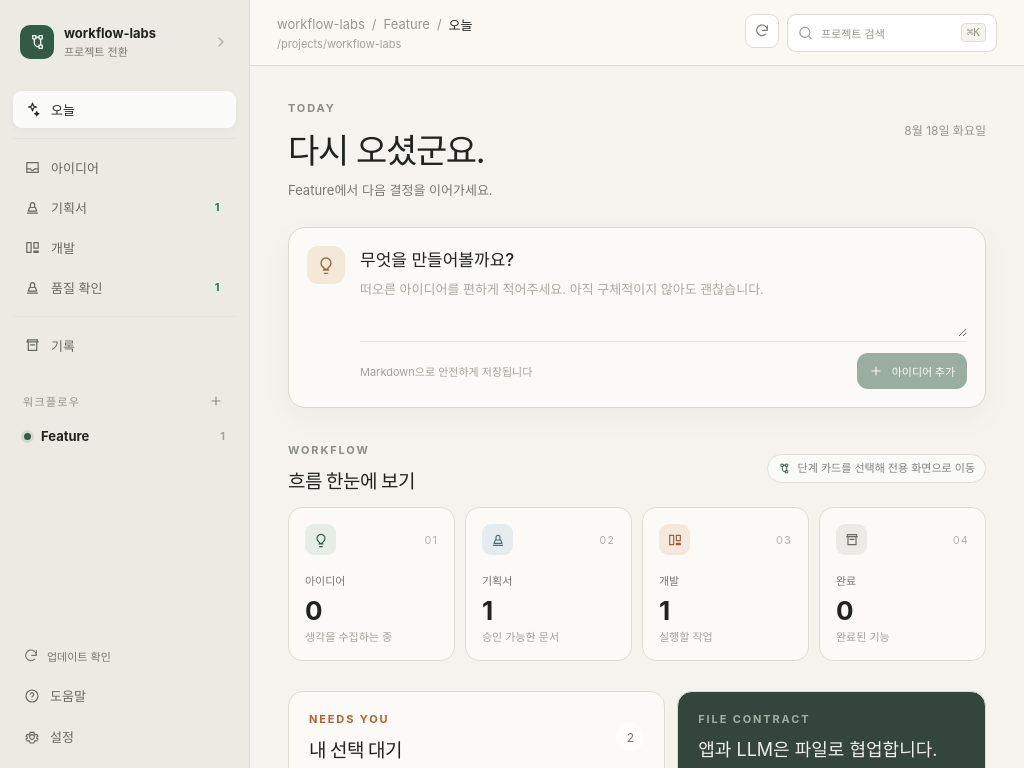
WorkspaceShell › opens the quality check workbench from the primary menu without moving the other entries
Click the button "품질 확인 1" at (124, 288), box 13,269 -> 236,306
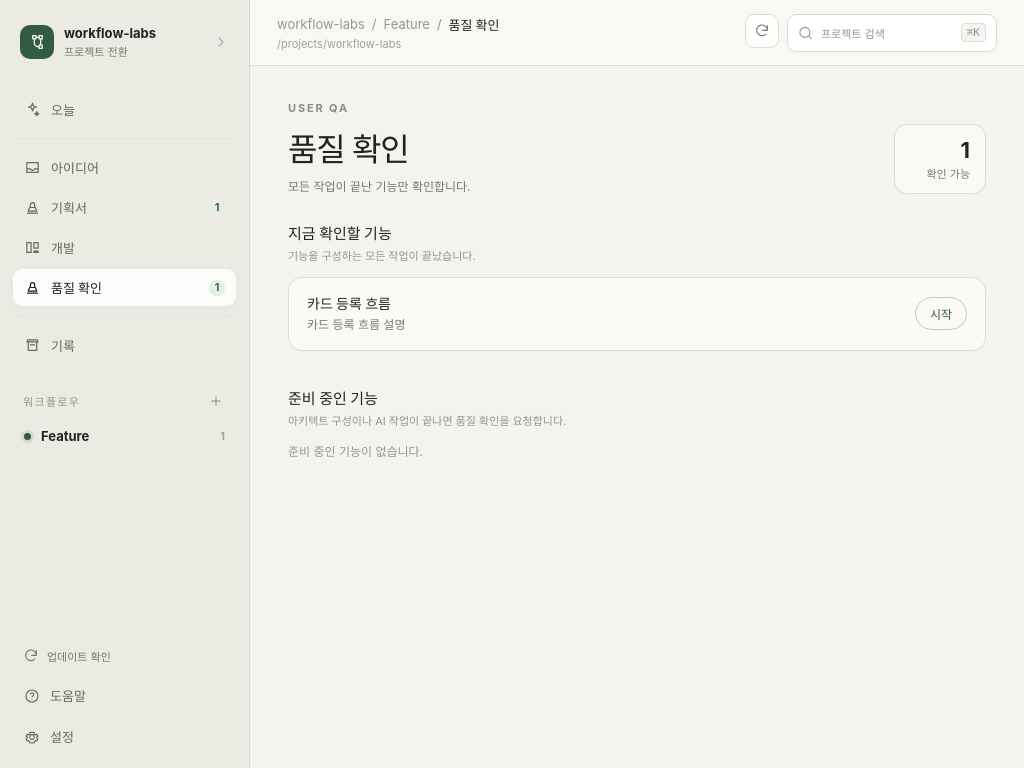
Now the heading "품질 확인" is shown, box 288,130 -> 408,169
Now the text "품질 확인" is shown, box 449,14 -> 500,34
Now the element "지금 확인할 기능" is shown, box 288,222 -> 986,351
개발 화면은 같은 그룹에 품질 확인 입구만 열고, 확인·도장 같은 QA 결정 조작은 두지 않는다.
Click the button "개발" at (124, 248), box 13,229 -> 236,266
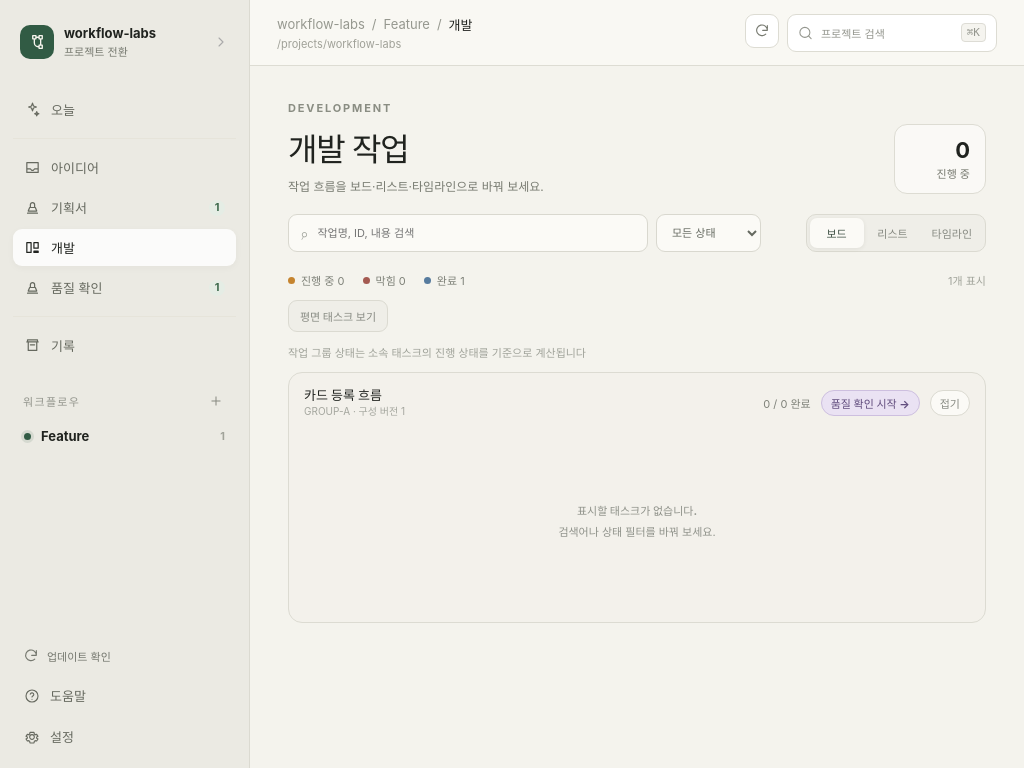
Now the text "카드 등록 흐름" is shown, box 304,387 -> 382,403
Now the button "품질 확인 시작 →" is shown, box 821,390 -> 920,416
오늘 화면의 내 선택 대기도 그대로다.
Click the button "오늘" at (124, 110), box 13,91 -> 236,128
(page scrolled)
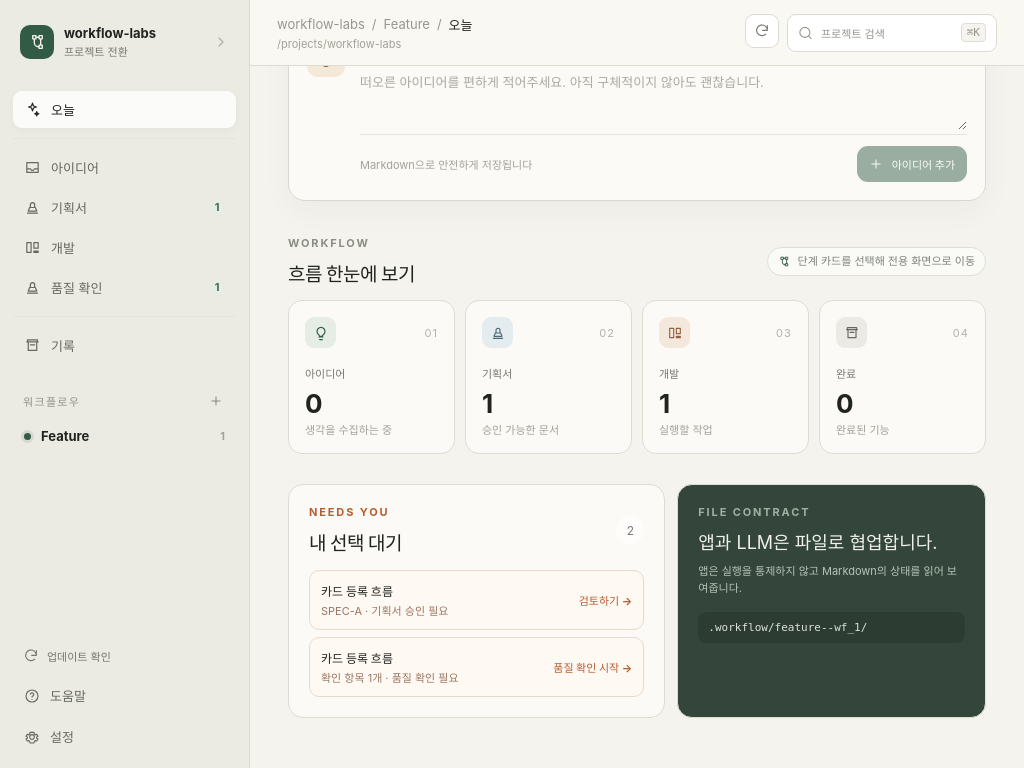
Now the heading "내 선택 대기" is shown, box 309,528 -> 402,555
Now the text "SPEC-A · 기획서 승인 필요" is shown, box 321,604 -> 448,618
